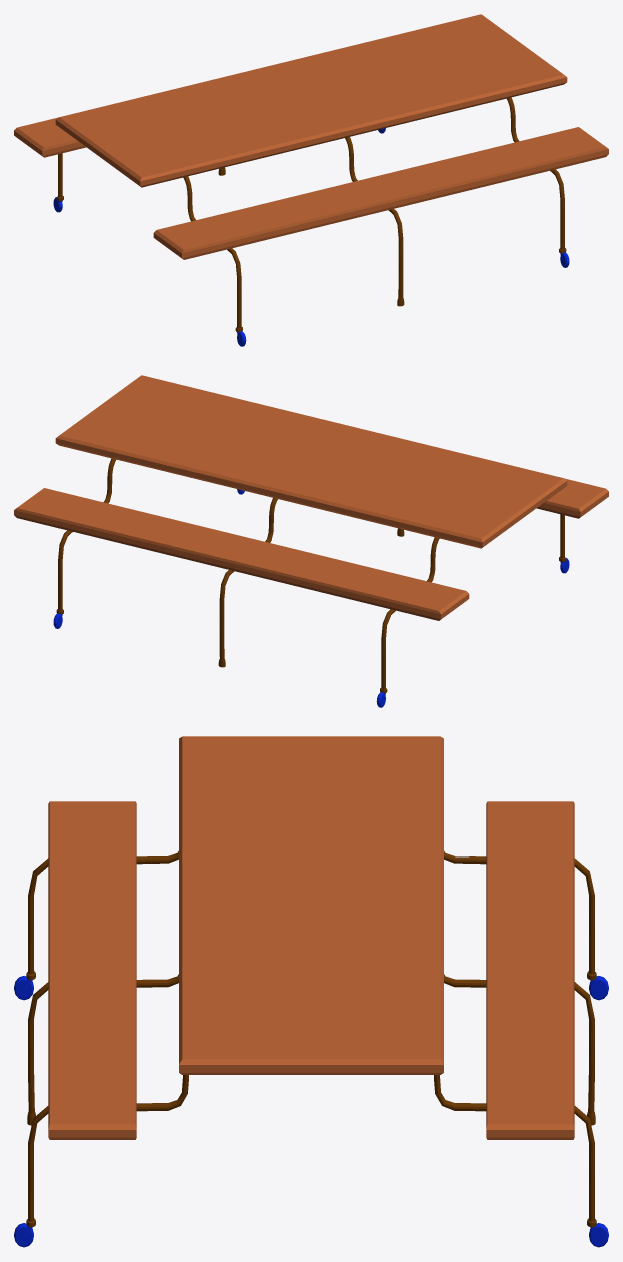
The model's file is Cafeteria_Table.fbx.
The picture shows the model from 3 angles, top to bottom: view 1: azimuth 30°, elevation 25°; view 2: azimuth 150°, elevation 25°; view 3: azimuth 270°, elevation 25°; orthographic projection. The views are drawn at different scales.
Parts seen in each view (by area): view 1: Cafeteria_Table; view 2: Cafeteria_Table; view 3: Cafeteria_Table.
Part boxes in pixels (box(x1,y1,x2,y2)): Cafeteria_Table: box(14, 14, 608, 346); Cafeteria_Table: box(14, 375, 608, 707); Cafeteria_Table: box(14, 736, 608, 1247).
Bounding box in the file's own units: 2.64 × 0.8505 × 2.04.
